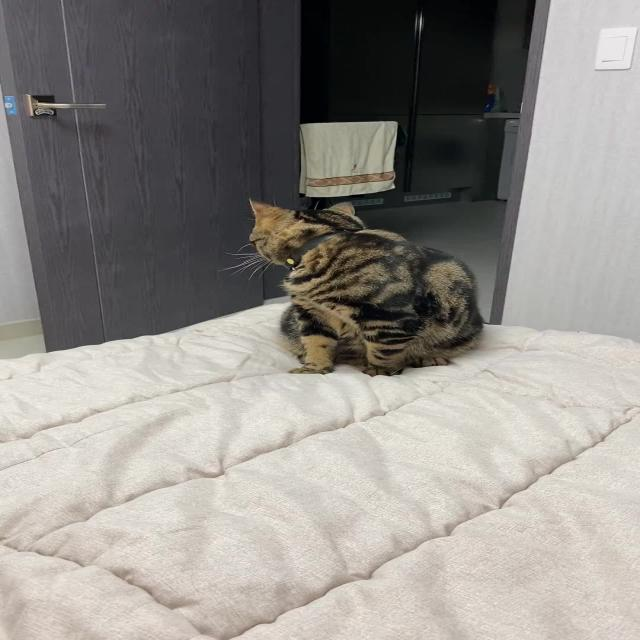cat: (190, 193, 530, 386)
